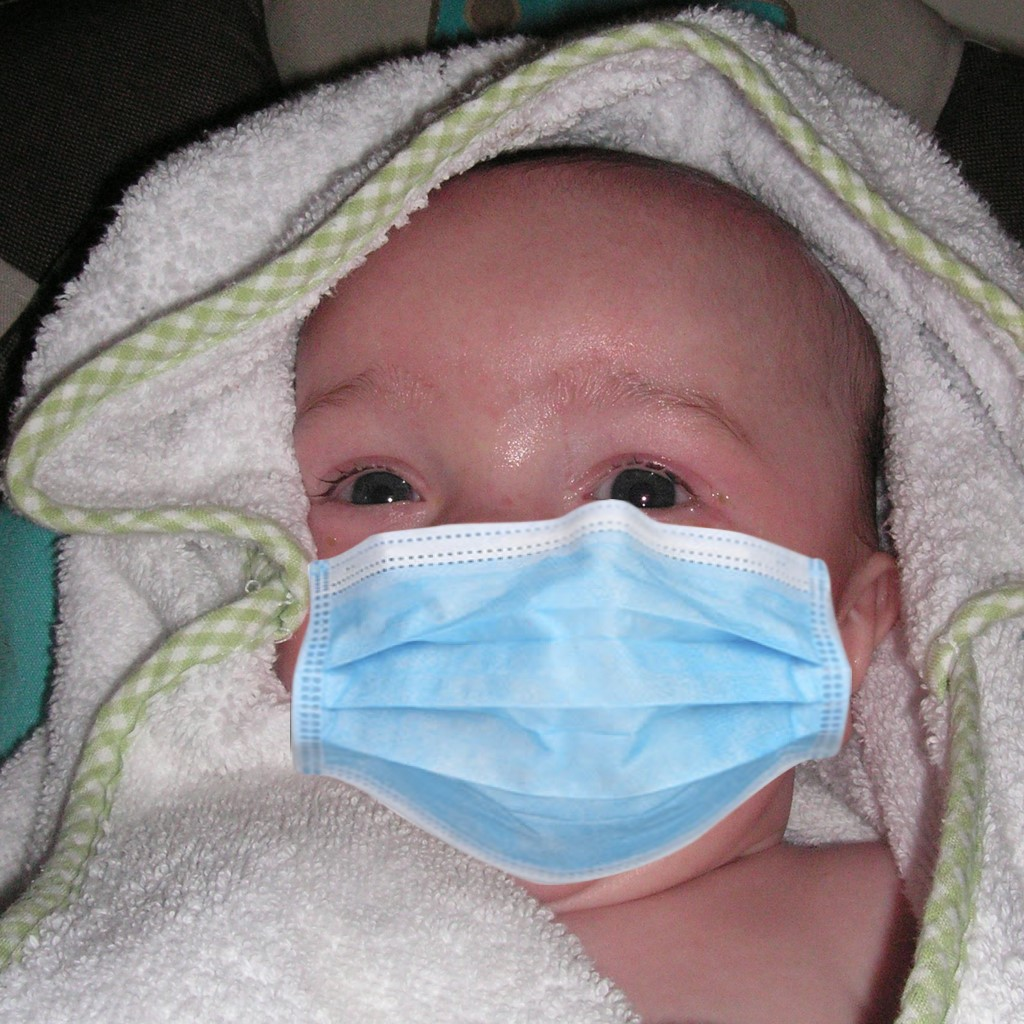con_mascara: (287, 170, 864, 856)
